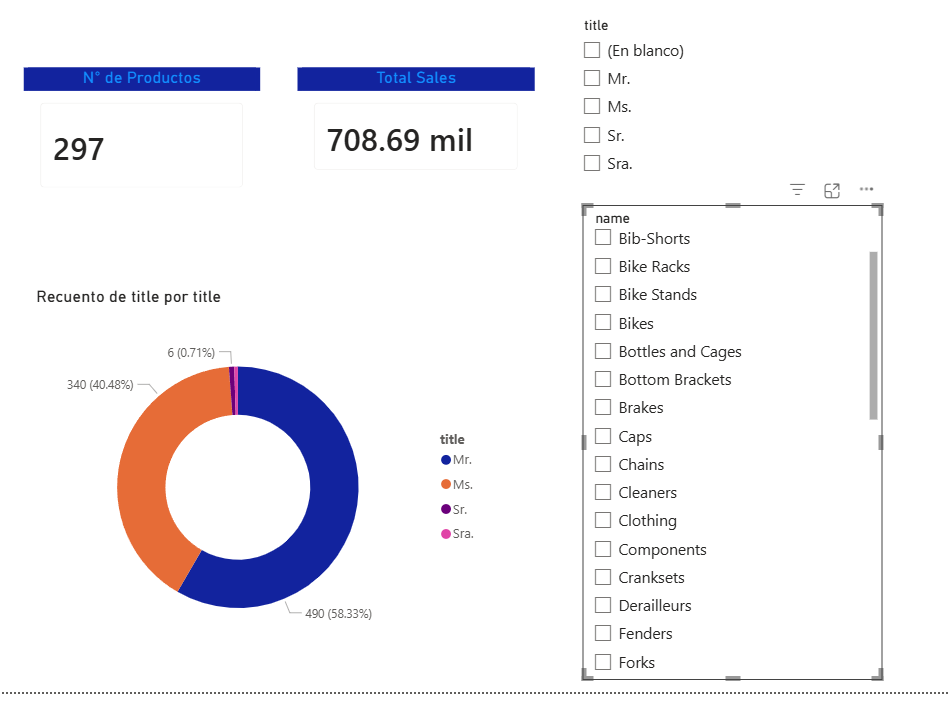

Layout of this report page (visuals, bound fields, positions):
{"tool":"powerbi","page":{"name":"Página 1","canvas":[1280,720],"ordinal":0},"visuals":[{"type":"cardVisual","title":"N° de Productos","fields":{"Data":["Count(Product.product_id)"]},"box":[39.7,79.5,242.2,141],"z":0},{"type":"cardVisual","title":"Total Sales","fields":{"Data":["Sum(SalesOrderDetail.line_total)"]},"box":[320.4,79.5,243.5,123],"z":1000},{"type":"donutChart","fields":{"Category":["Customer.title"],"Y":["CountNonNull(Customer.title)"]},"box":[47.4,303.7,469,393.4],"z":1001},{"type":"slicer","fields":{"Values":["Customer.title"]},"box":[601,23.1,298.6,179.4],"z":1002},{"type":"slicer","fields":{"Values":["ProductCategory.name"]},"box":[612.6,220.4,307.6,487],"z":1003}]}

Visuals, with their boxes on the page's 1280x720 design canvas (x1, y1, x2, y2). These are canvas units, not pixel positions in the 948x711 screenshot, which may show the page scaled, cropped or inside an application window:
"N° de Productos" cardVisual: {"left": 40, "top": 80, "right": 282, "bottom": 220}
"Total Sales" cardVisual: {"left": 320, "top": 80, "right": 564, "bottom": 202}
donutChart - Customer.title x CountNonNull(Customer.title): {"left": 47, "top": 304, "right": 516, "bottom": 697}
slicer - Customer.title: {"left": 601, "top": 23, "right": 900, "bottom": 202}
slicer - ProductCategory.name: {"left": 613, "top": 220, "right": 920, "bottom": 707}
